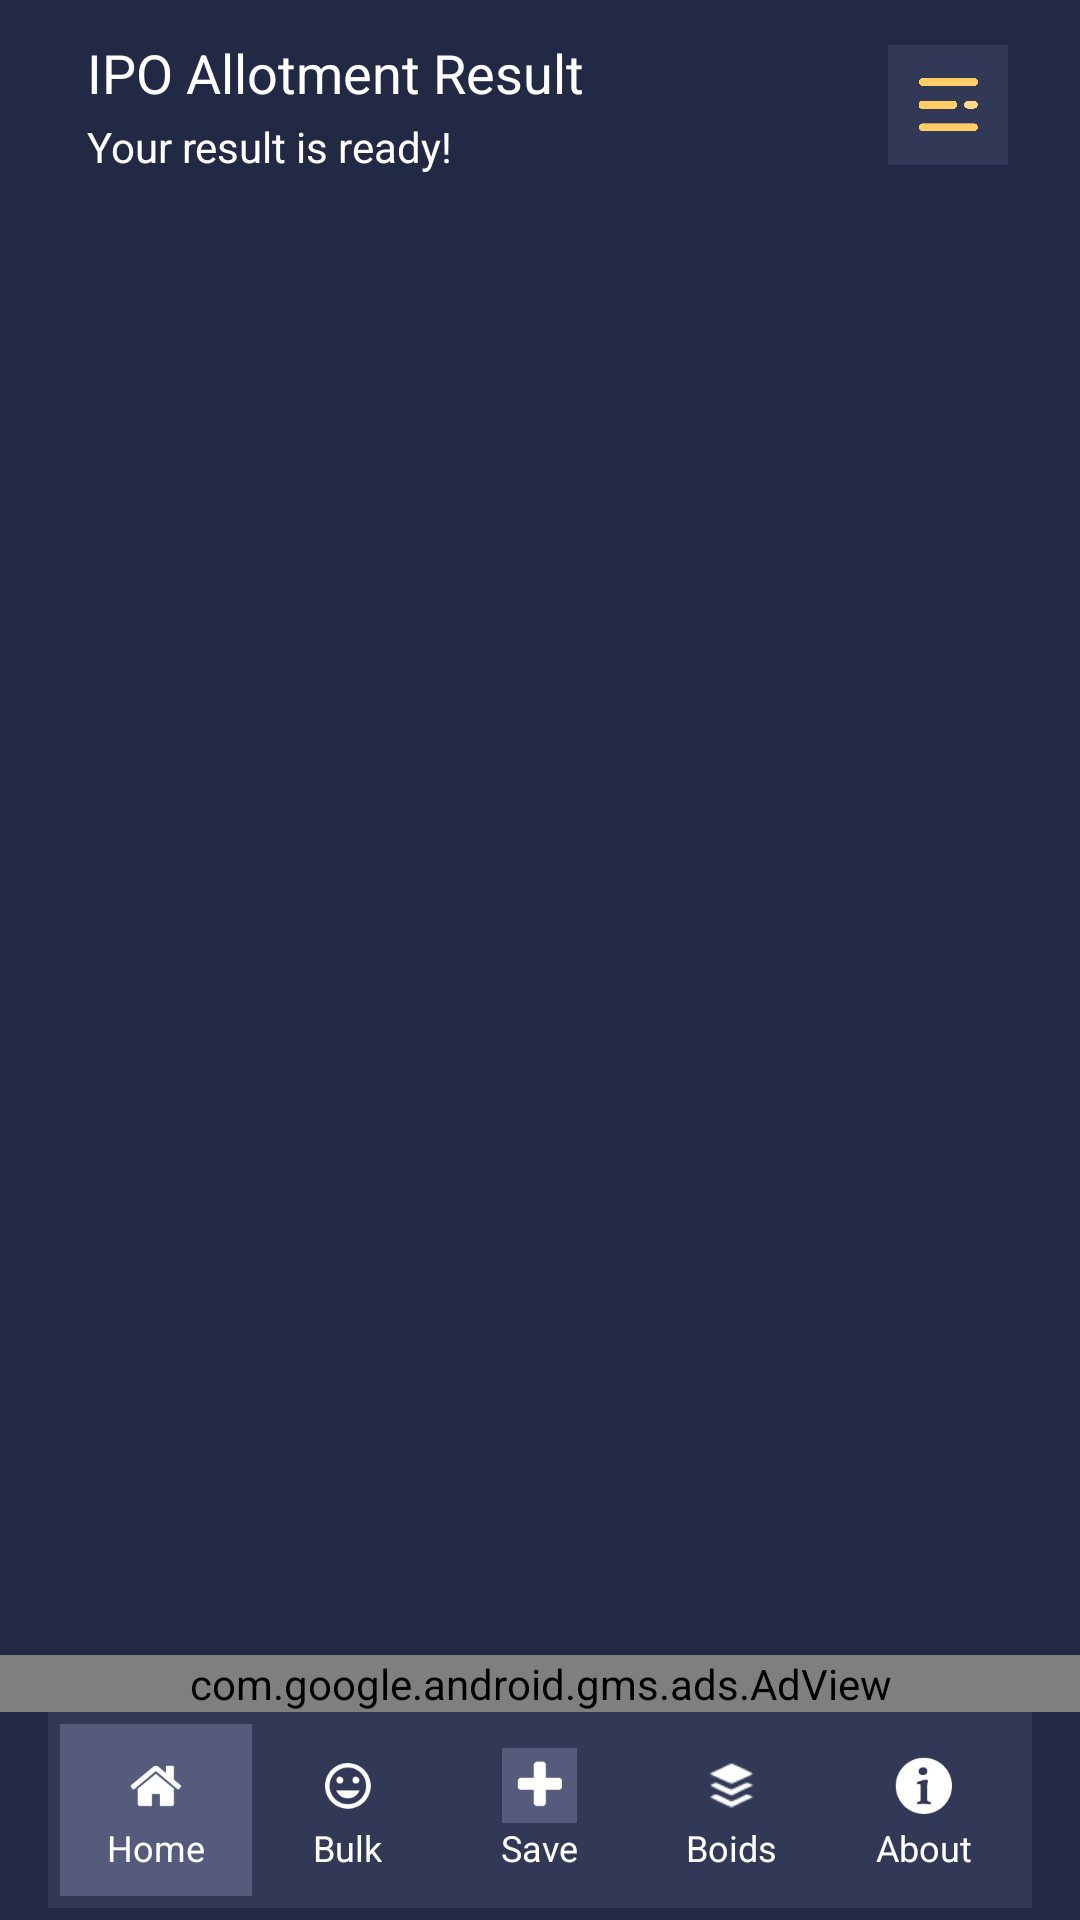

Named icons in this screenshot (1080w x 1920h) and their bounding boxes, bbox=(x1, y1, x2, y2):
menu: bbox=(919, 78, 978, 131)
plus: bbox=(502, 1748, 577, 1823)
